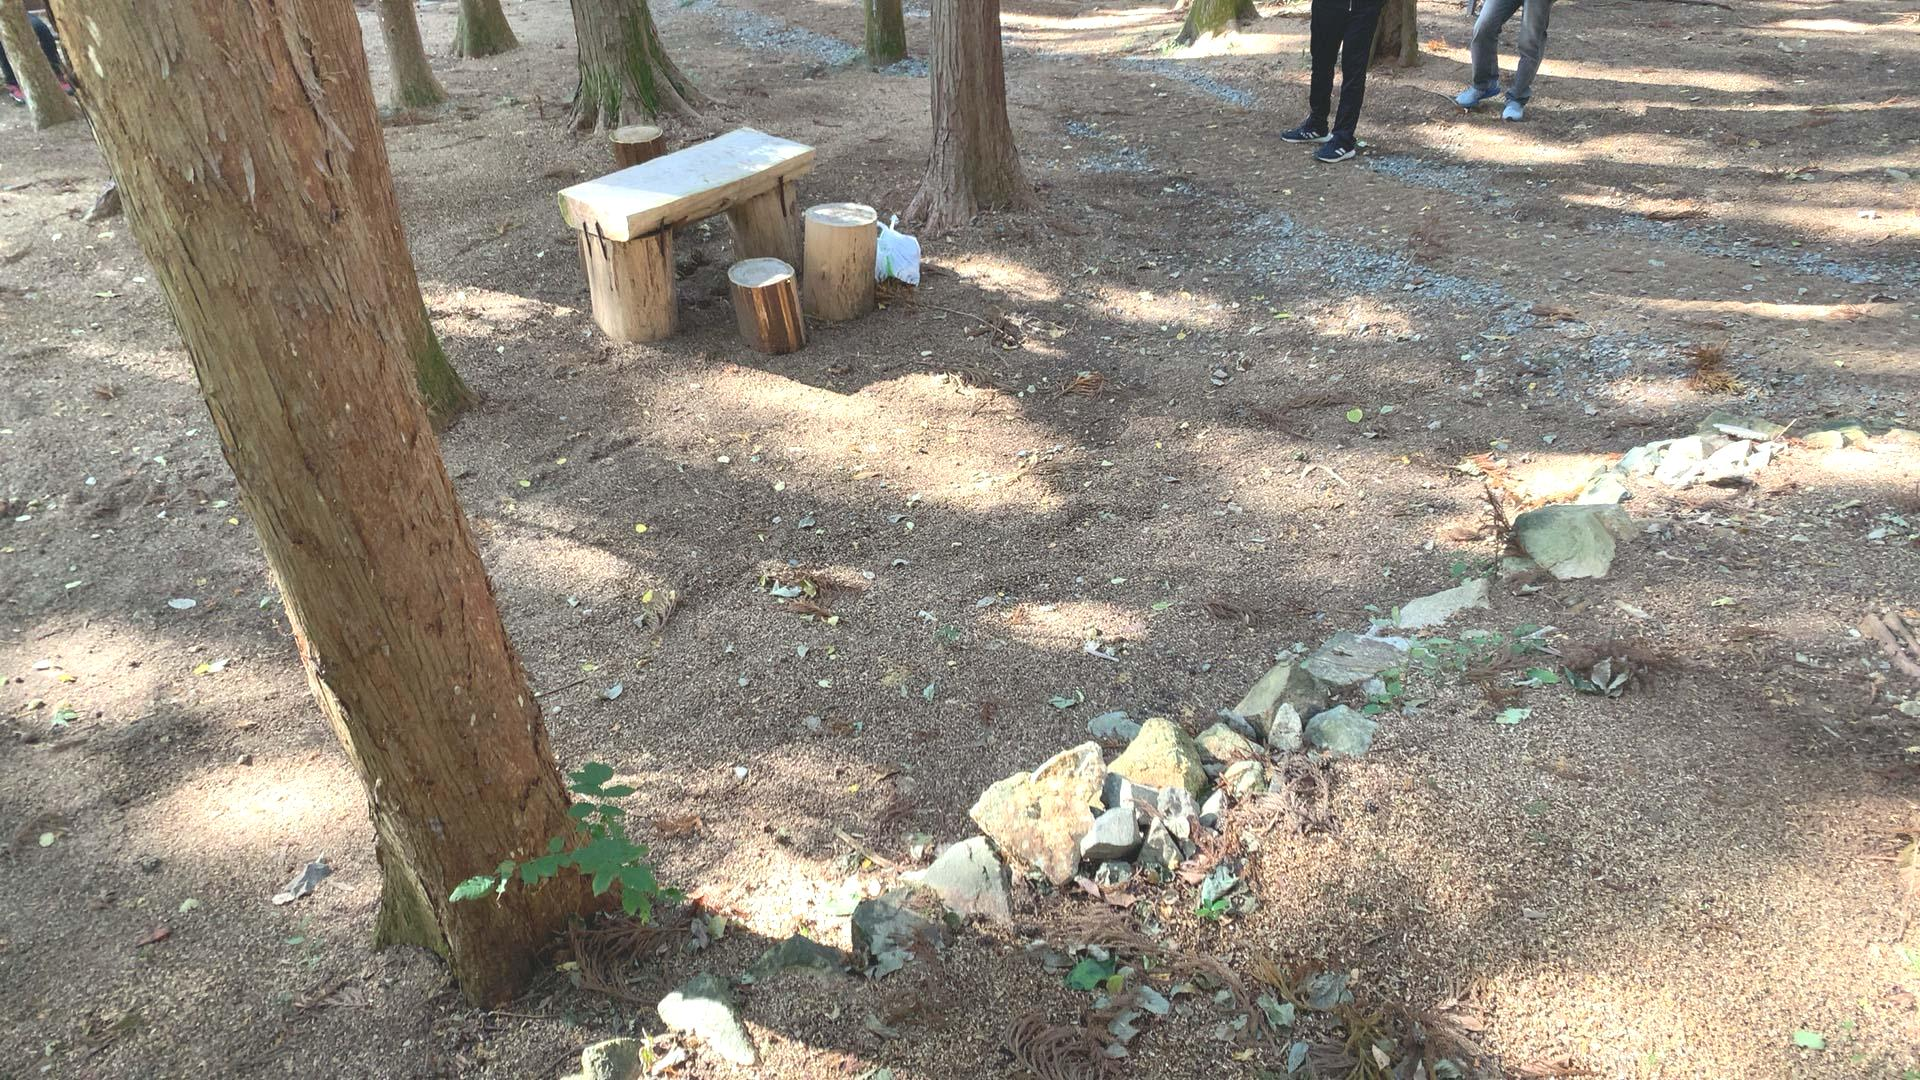white_bag: (864, 212, 924, 287)
